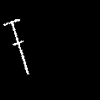double_crochet: (4, 19, 28, 73)
